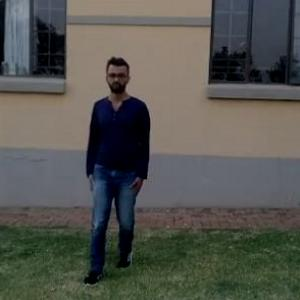follow: (89, 58, 151, 272)
